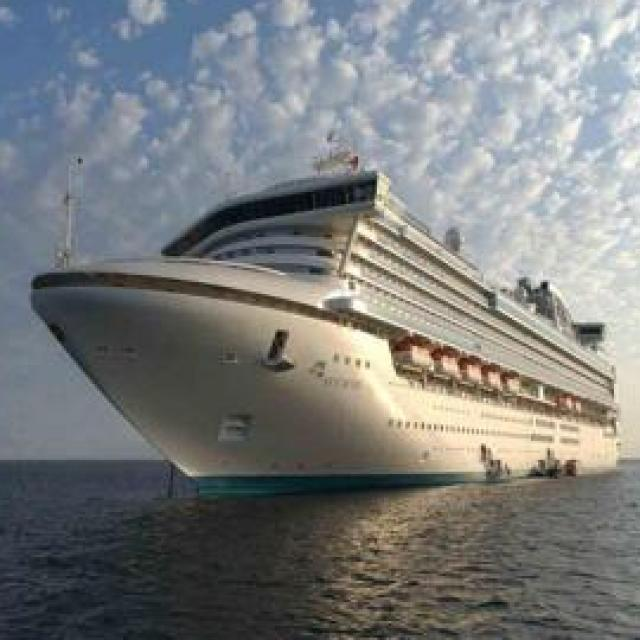passenger ship: (6, 161, 624, 516)
